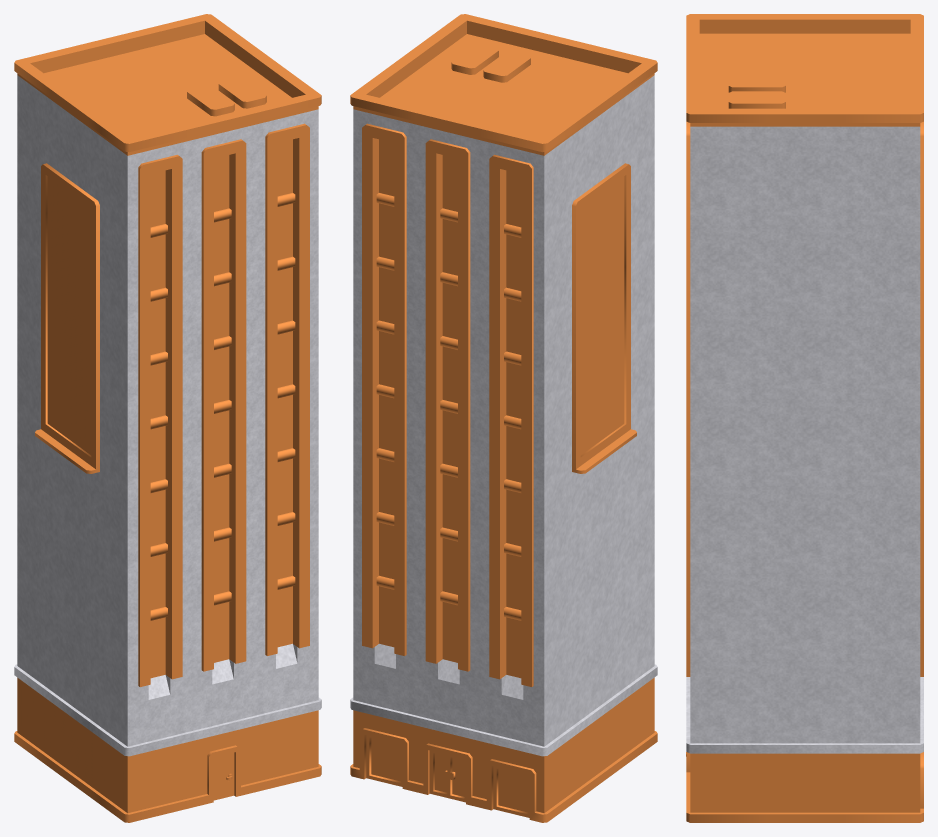
The model's file is building-skyscraper-e.obj.
The picture shows the model from 3 angles, left to right: view 1: azimuth 30°, elevation 25°; view 2: azimuth 150°, elevation 25°; view 3: azimuth 270°, elevation 25°; orthographic projection. The views are drawn at different scales.
Bounding box in the file's own units: 1.29 × 4.08 × 1.24.
